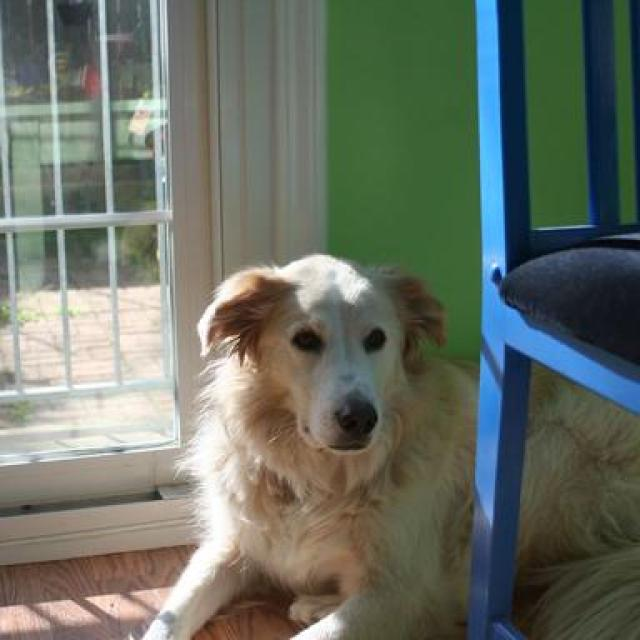relax: (135, 221, 640, 640)
